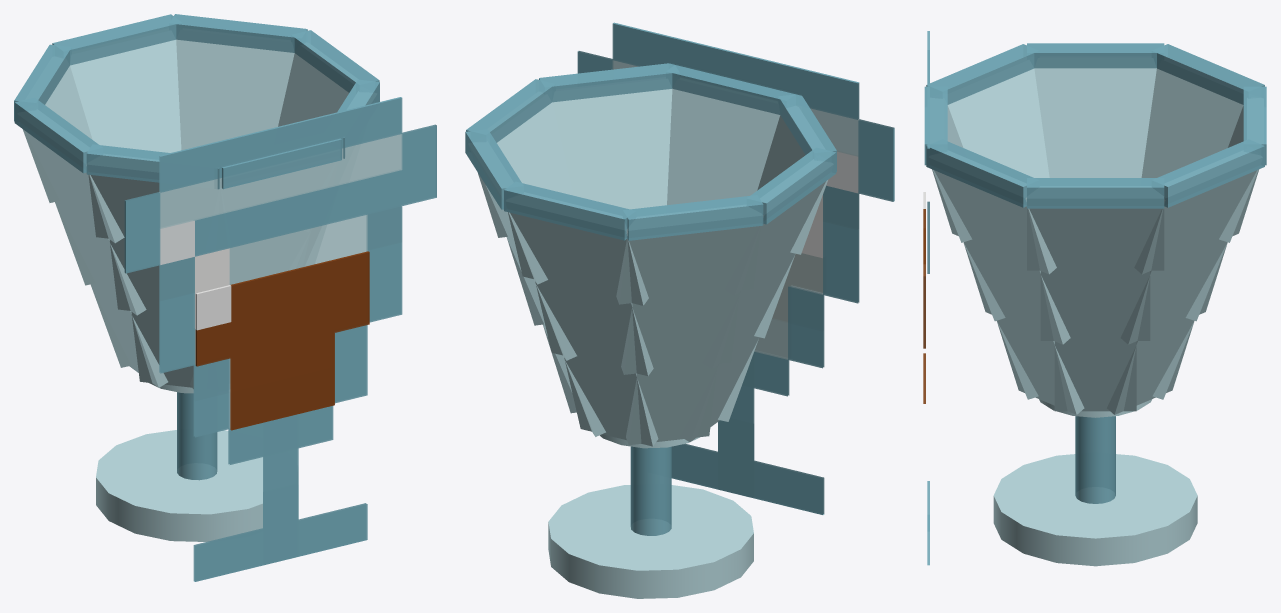
File: CMU3DDrinkIrishCoffeeGlass.glb
The picture shows the model from 3 angles, left to right: view 1: azimuth 30°, elevation 25°; view 2: azimuth 150°, elevation 25°; view 3: azimuth 270°, elevation 25°; orthographic projection.
Visible parts, largest first — view 1: base original source artwork, fill original source artwork, circular glass foot, hollow wall tier 3 facet 2, hollow wall tier 3 facet 3, open rim facet 2, open rim facet 3, hollow wall tier 3 facet 5, hollow wall tier 3 facet 1, open rim facet 5, hollow wall tier 2 facet 5, open rim facet 7 (+12 smaller); view 2: base original source artwork, circular glass foot, hollow wall tier 3 facet 8, hollow wall tier 3 facet 7, hollow wall tier 3 facet 4, hollow wall tier 2 facet 4, hollow wall tier 3 facet 3, hollow wall tier 2 facet 3, hollow wall tier 1 facet 4, hollow wall tier 1 facet 3, hollow wall tier 3 facet 1, open rim facet 4 (+17 smaller); view 3: circular glass foot, hollow wall tier 3 facet 5, hollow wall tier 3 facet 1, hollow wall tier 2 facet 1, hollow wall tier 3 facet 4, hollow wall tier 3 facet 6, hollow wall tier 3 facet 2, hollow wall tier 3 facet 8, hollow wall tier 1 facet 1, hollow wall tier 2 facet 8, hollow wall tier 2 facet 2, open rim facet 1 (+20 smaller).
Part boxes in pixels (bbox=[...]): base original source artwork: bbox=[124, 97, 436, 581]; fill original source artwork: bbox=[195, 251, 369, 430]; circular glass foot: bbox=[96, 430, 262, 541]; hollow wall tier 3 facet 2: bbox=[176, 39, 294, 137]; hollow wall tier 3 facet 3: bbox=[70, 39, 180, 145]; open rim facet 2: bbox=[169, 14, 307, 52]; open rim facet 3: bbox=[52, 14, 181, 65]; hollow wall tier 3 facet 5: bbox=[25, 131, 124, 243]; hollow wall tier 3 facet 1: bbox=[278, 53, 348, 126]; open rim facet 5: bbox=[14, 97, 102, 173]; hollow wall tier 2 facet 5: bbox=[55, 201, 146, 315]; open rim facet 7: bbox=[221, 138, 341, 189]; base original source artwork: bbox=[577, 22, 894, 514]; circular glass foot: bbox=[548, 485, 753, 598]; hollow wall tier 3 facet 8: bbox=[552, 89, 672, 191]; hollow wall tier 3 facet 7: bbox=[668, 89, 780, 196]; hollow wall tier 3 facet 4: bbox=[616, 226, 761, 304]; hollow wall tier 2 facet 4: bbox=[621, 290, 740, 374]; hollow wall tier 3 facet 3: bbox=[508, 212, 648, 305]; hollow wall tier 2 facet 3: bbox=[535, 280, 653, 375]; hollow wall tier 1 facet 4: bbox=[626, 364, 717, 445]; hollow wall tier 1 facet 3: bbox=[564, 357, 658, 446]; hollow wall tier 3 facet 1: bbox=[477, 102, 571, 237]; open rim facet 4: bbox=[623, 195, 763, 240]; circular glass foot: bbox=[993, 454, 1197, 566]; hollow wall tier 3 facet 5: bbox=[1034, 68, 1156, 158]; hollow wall tier 3 facet 1: bbox=[1027, 208, 1164, 270]; hollow wall tier 2 facet 1: bbox=[1040, 269, 1150, 340]; hollow wall tier 3 facet 4: bbox=[1144, 68, 1243, 170]; hollow wall tier 3 facet 6: bbox=[948, 68, 1046, 169]; hollow wall tier 3 facet 2: bbox=[1134, 169, 1258, 274]; hollow wall tier 3 facet 8: bbox=[932, 169, 1056, 274]; hollow wall tier 1 facet 1: bbox=[1054, 341, 1136, 411]; hollow wall tier 2 facet 8: bbox=[964, 240, 1070, 344]; hollow wall tier 2 facet 2: bbox=[1120, 240, 1227, 344]; open rim facet 1: bbox=[1027, 178, 1164, 208].
Size of what is drawn, in the model's own units: 0.2812 by 0.375 by 0.269.
5 materials, 2 textured.
